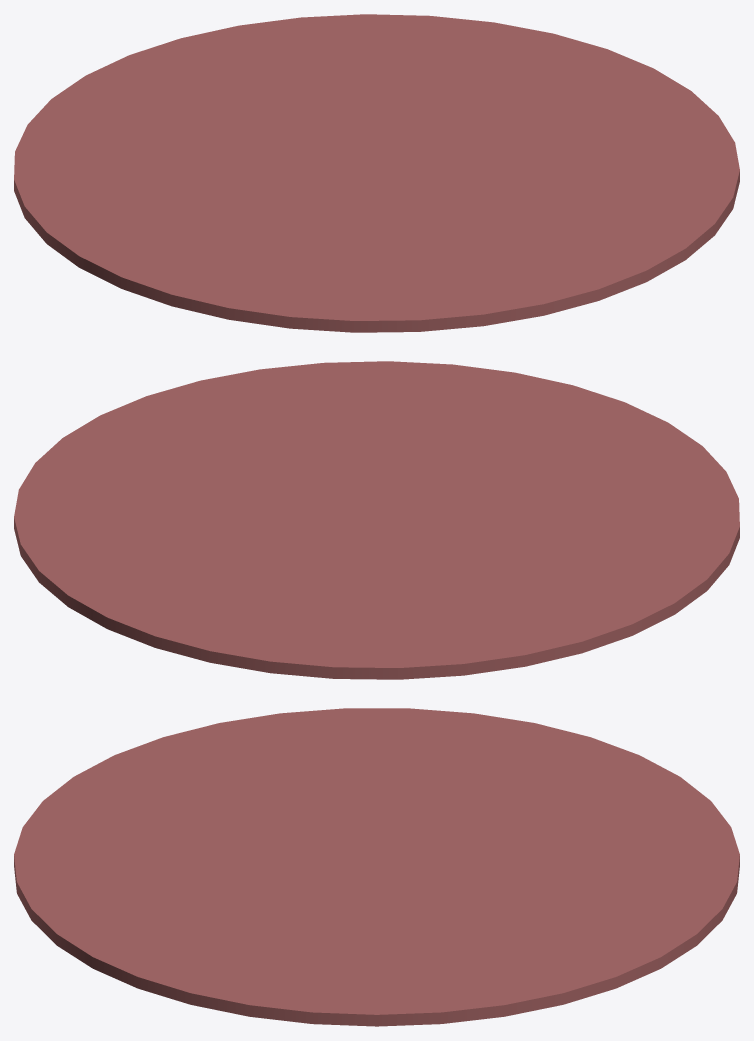
The model's file is Bedroom_Rug.fbx.
3 views of the same model, one above another, from view 1: azimuth 30°, elevation 25°; view 2: azimuth 150°, elevation 25°; view 3: azimuth 270°, elevation 25° (orthographic).
Parts seen in each view (by area): view 1: pCylinder21; view 2: pCylinder21; view 3: pCylinder21.
Boxes of the visible parts, <box> form: pCylinder21: <box>14,14,739,332</box>; pCylinder21: <box>14,361,739,679</box>; pCylinder21: <box>14,708,739,1026</box>.
Size of the model in its own units: 36.18 by 0.6408 by 36.22.
